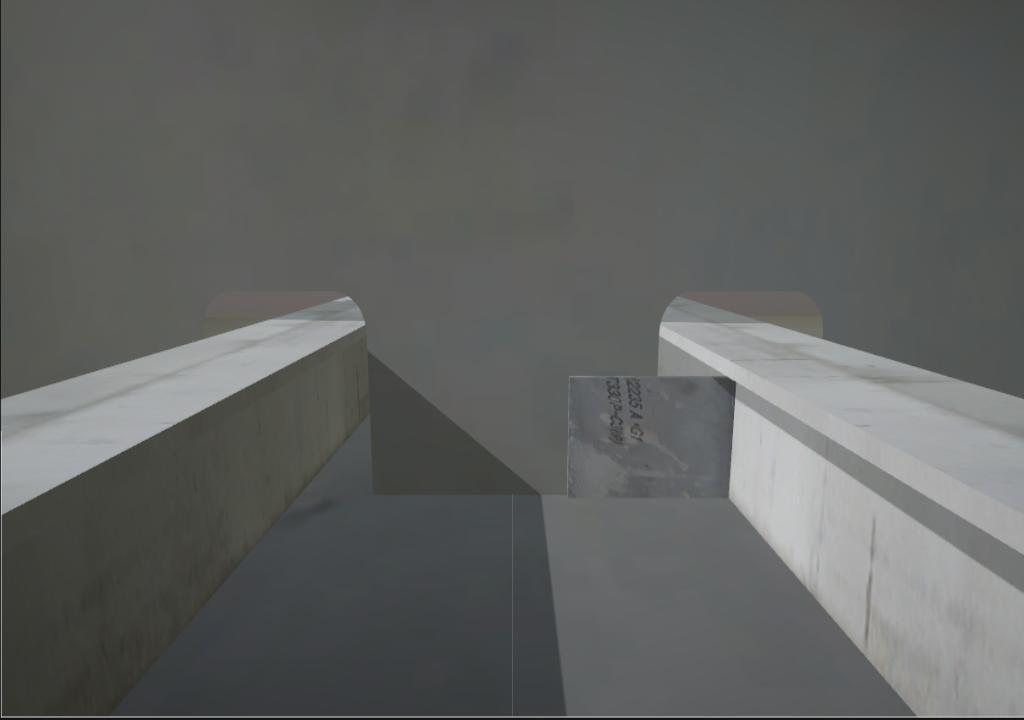fillet_yong_jeop_jang: (368, 486, 571, 506)
plate_CP01: (566, 375, 737, 500)
